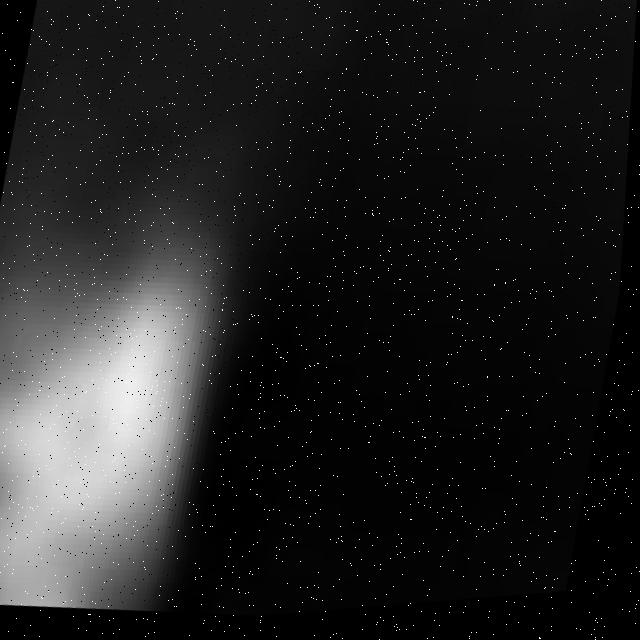person: (1, 129, 259, 630)
